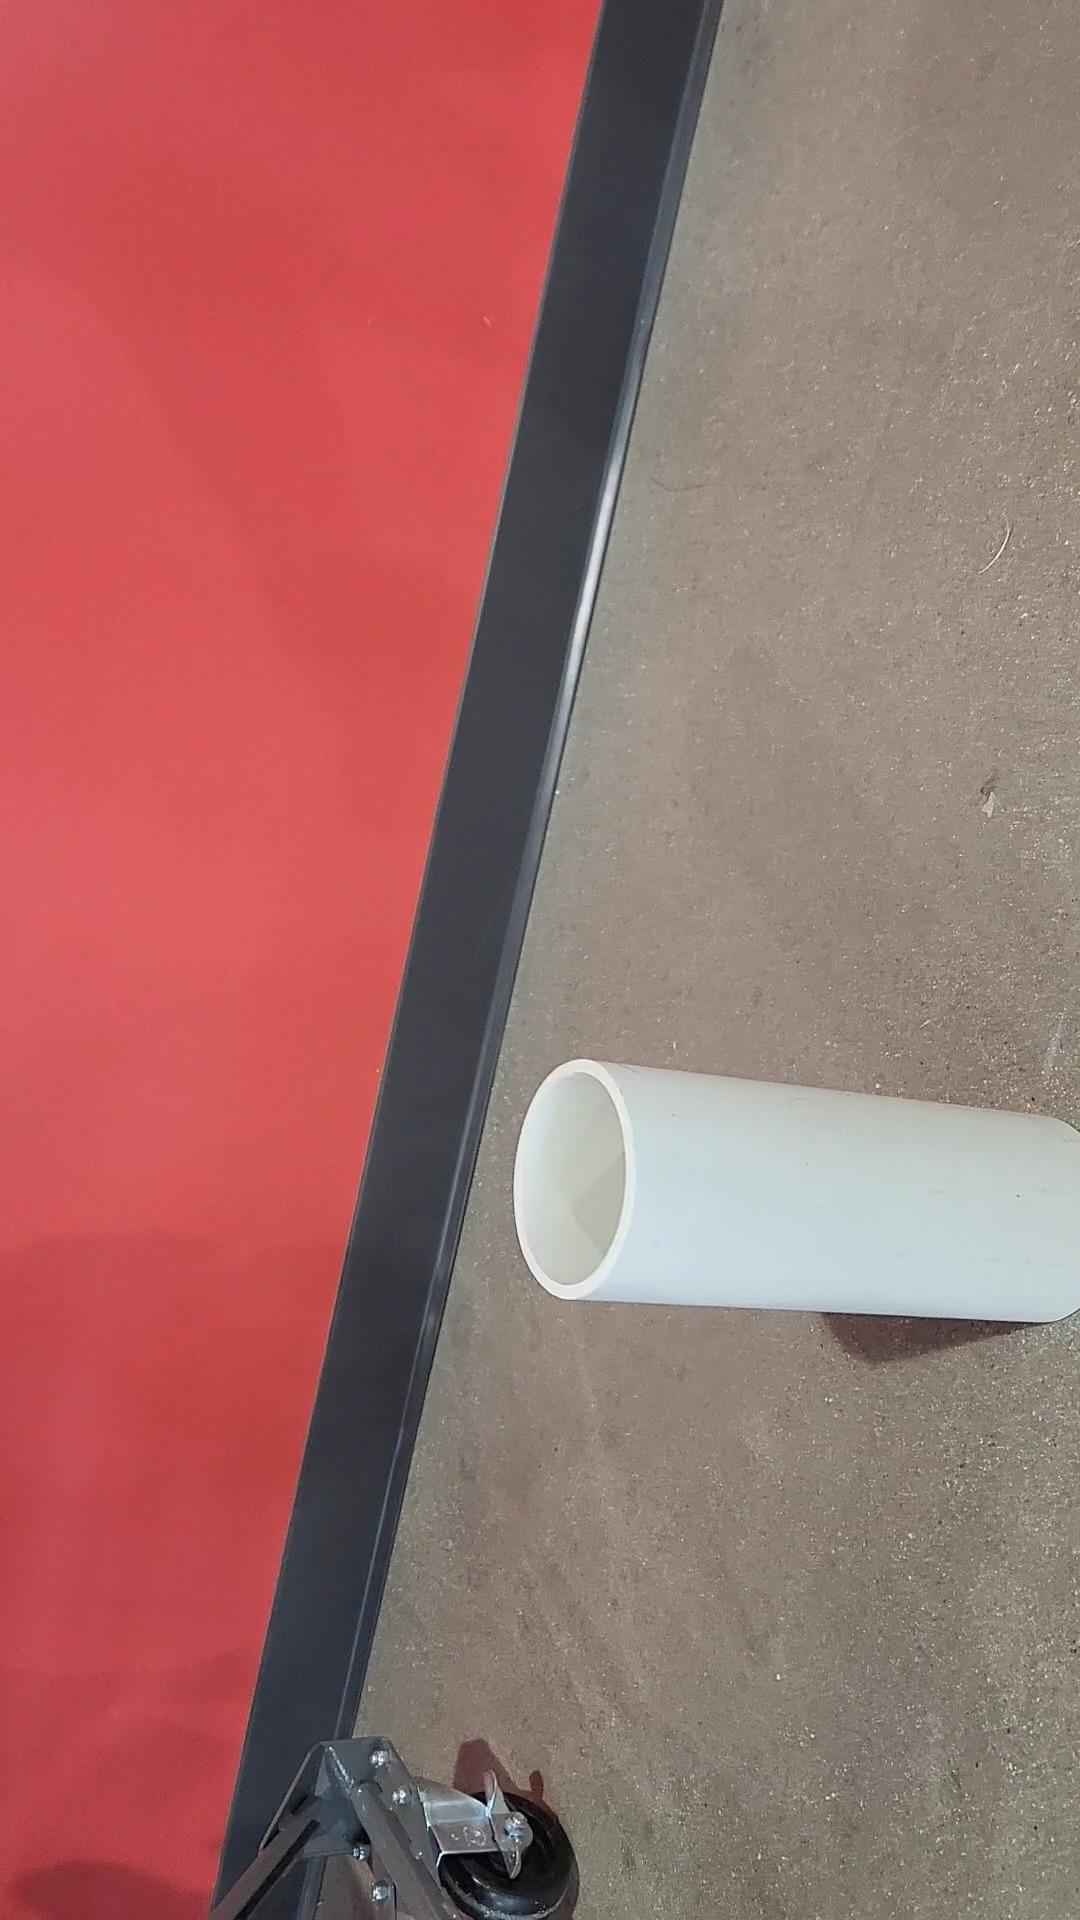coral: (507, 1057, 1080, 1334)
